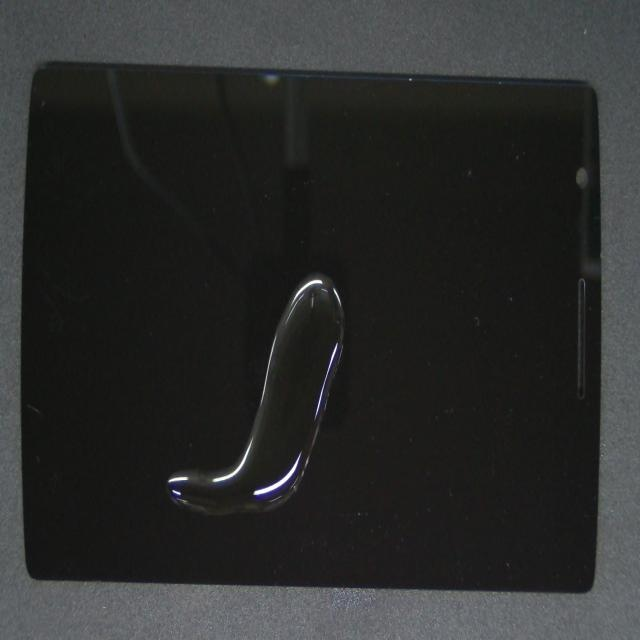oil: (133, 332, 476, 640)
